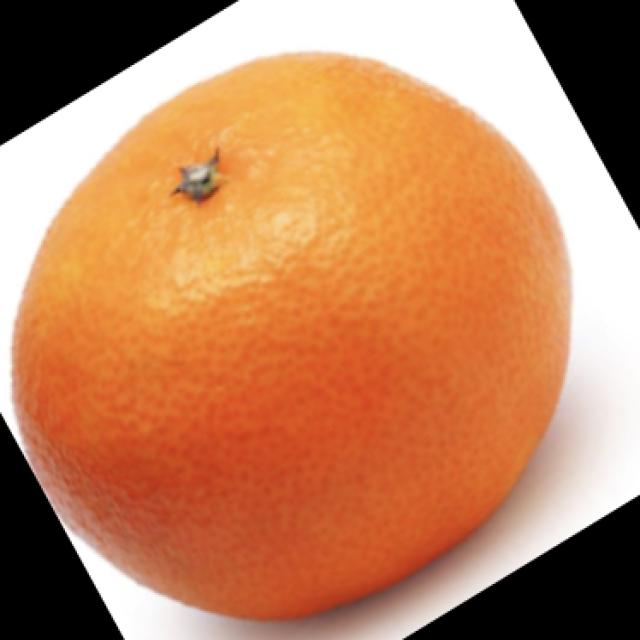matang: (0, 55, 572, 616)
